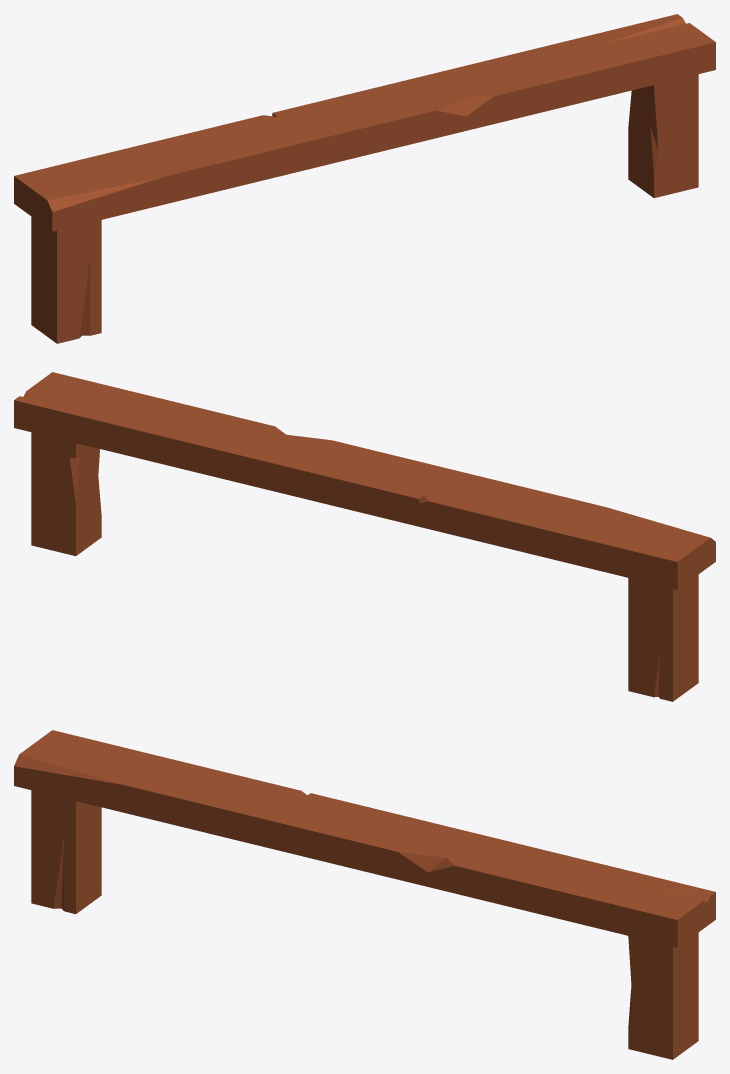
Rendered from Prop_Fantasy_Fence_Timber_Hitching_Post_Rail_Short_01.FBX.
3 renders of one model, top to bottom at view 1: azimuth 30°, elevation 25°; view 2: azimuth 150°, elevation 25°; view 3: azimuth 330°, elevation 25°, orthographic.
Parts seen in each view (by area): view 1: Prop_Fantasy_Fence_Timber_Hitching_Post_Rail_Short_01; view 2: Prop_Fantasy_Fence_Timber_Hitching_Post_Rail_Short_01; view 3: Prop_Fantasy_Fence_Timber_Hitching_Post_Rail_Short_01.
Part boxes in pixels (bbox=[...]): Prop_Fantasy_Fence_Timber_Hitching_Post_Rail_Short_01: bbox=[14, 14, 715, 343]; Prop_Fantasy_Fence_Timber_Hitching_Post_Rail_Short_01: bbox=[14, 372, 715, 701]; Prop_Fantasy_Fence_Timber_Hitching_Post_Rail_Short_01: bbox=[14, 730, 715, 1059].
Bounding box in the file's own units: 2812 × 596 × 282.
